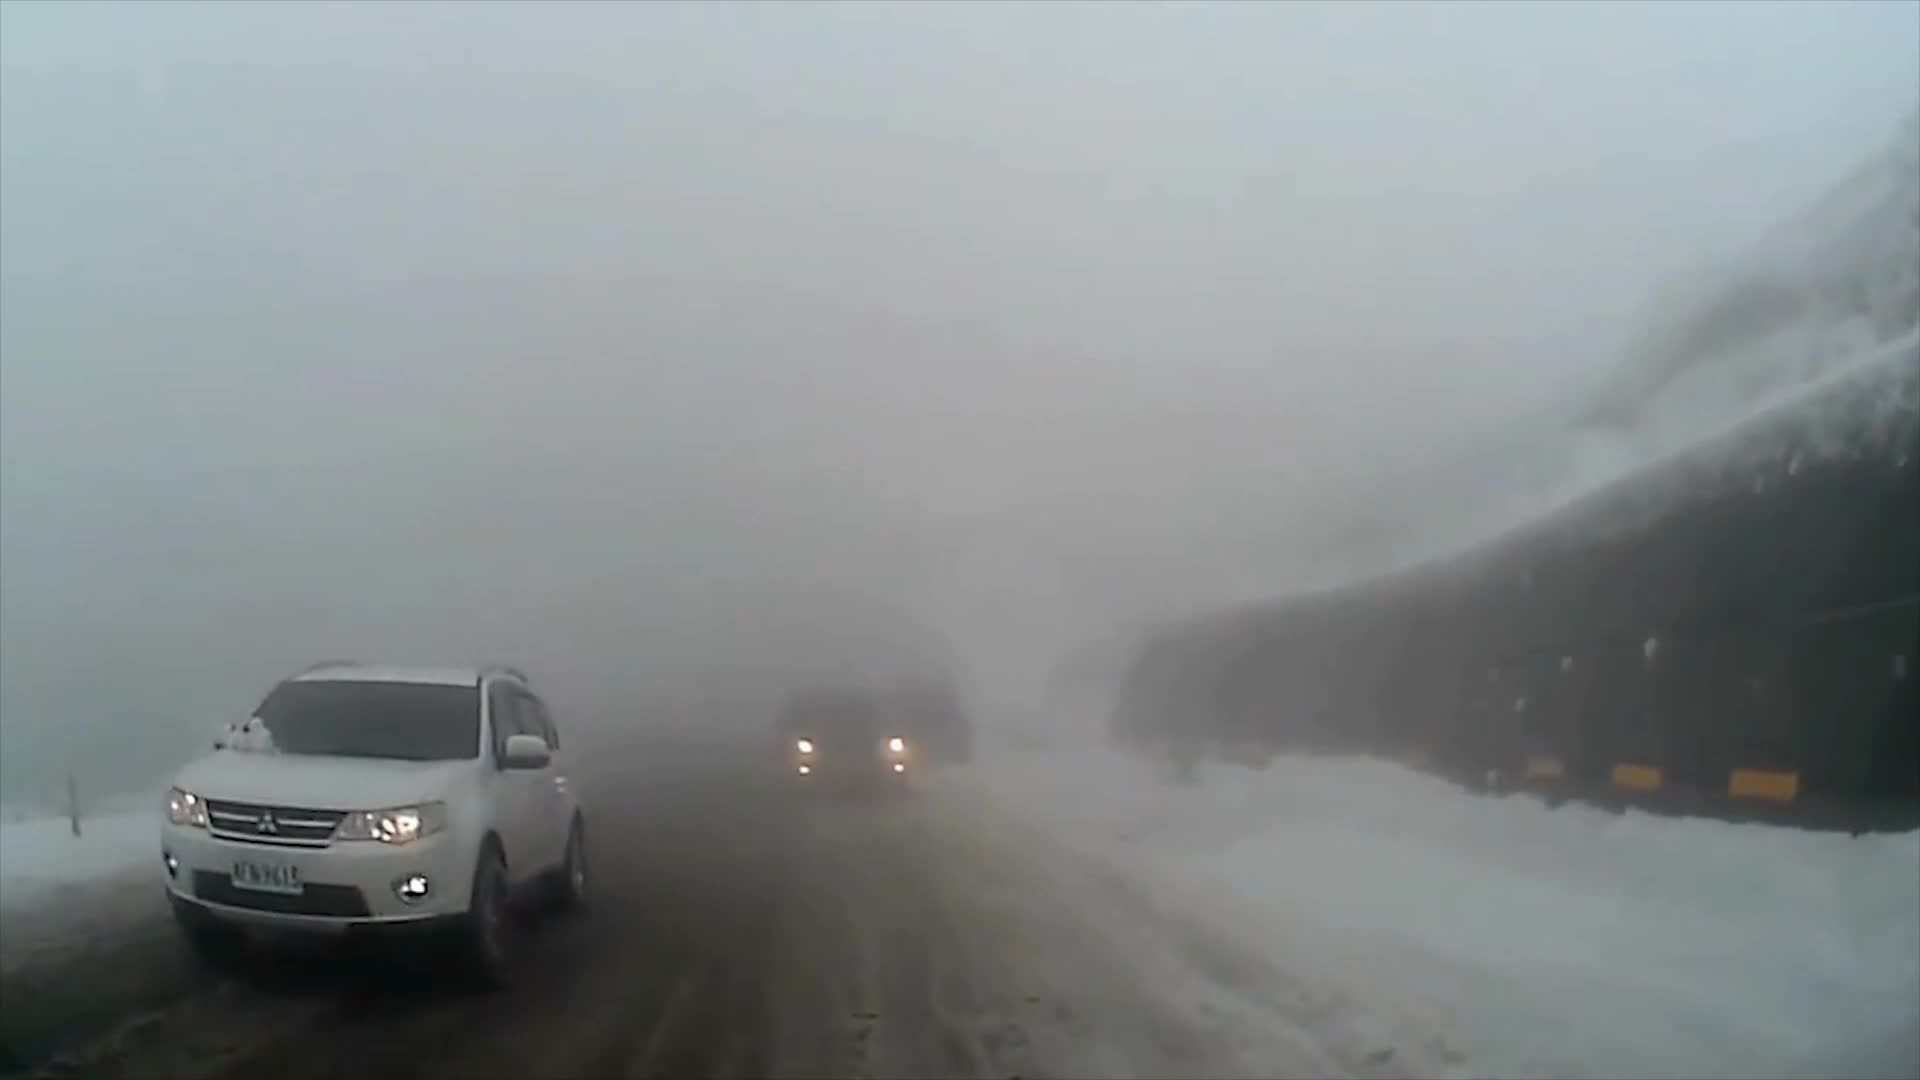vehicle: (153, 657, 589, 976), (769, 684, 913, 802)
